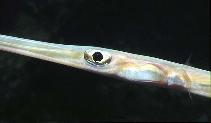Fistularia commersonii: (0, 22, 211, 118)
